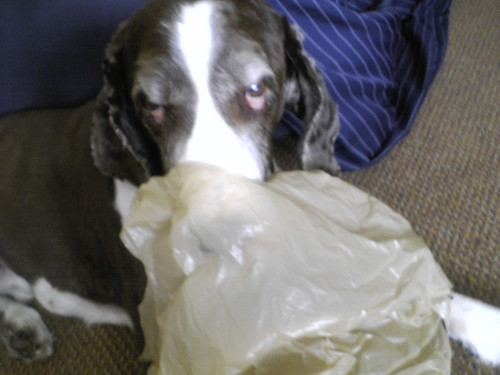plastic bag: (120, 168, 453, 375)
